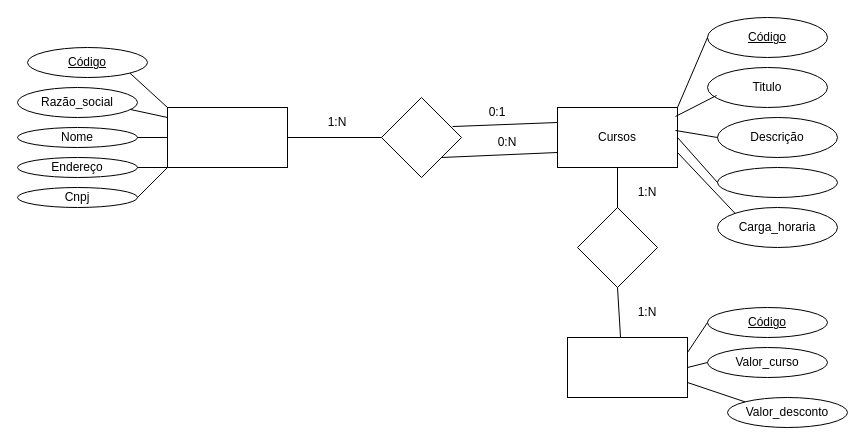
The diagram is 865 pixels wide and 445 high, and some of its shapes have lost their labels. Each missing label, with the centre of its shape:
"Decconto" goes at point (627, 367).
"Empresa" goes at point (227, 137).
"Oferece" goes at point (421, 137).
"Possui" goes at point (617, 247).
"Preço" goes at point (777, 182).
